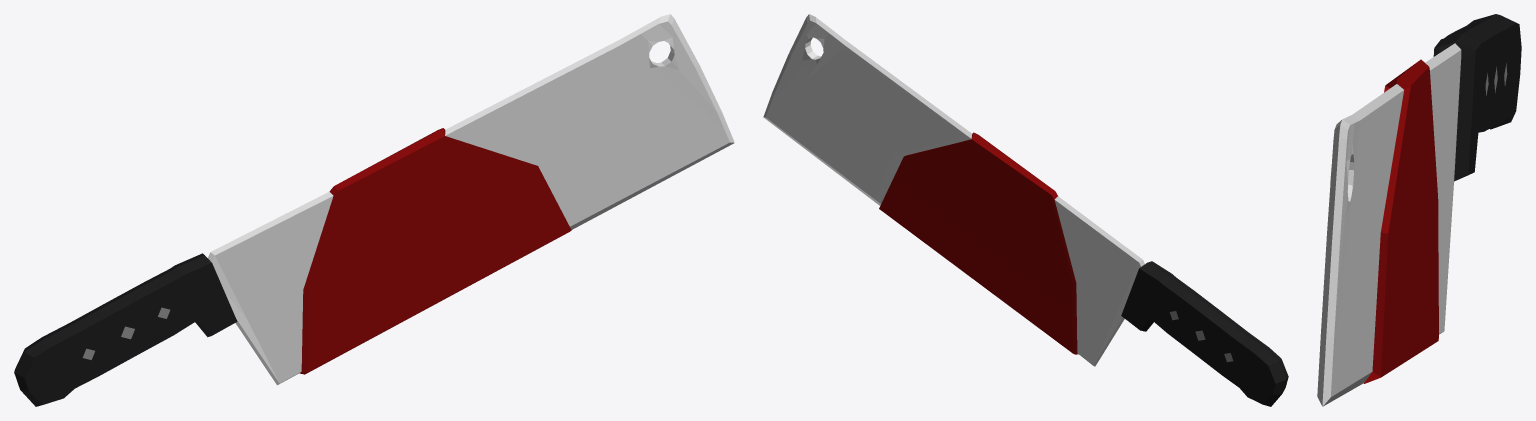
The model's file is M_TopHead_Machete.glb.
3 views of the same model, side by side, from view 1: azimuth 30°, elevation 25°; view 2: azimuth 150°, elevation 25°; view 3: azimuth 270°, elevation 25° (orthographic). The views are drawn at different scales.
Visible parts, largest first — view 1: M_TopHead_Machete; view 2: M_TopHead_Machete; view 3: M_TopHead_Machete.
Boxes of the visible parts, left/top/right/bottom form: M_TopHead_Machete: left=14, top=14, right=734, bottom=406; M_TopHead_Machete: left=763, top=14, right=1288, bottom=406; M_TopHead_Machete: left=1317, top=14, right=1521, bottom=406.
Size of what is drawn, in the model's own units: 1.38 by 0.6002 by 0.2182.
Materials: 1 (1 with a texture image).
